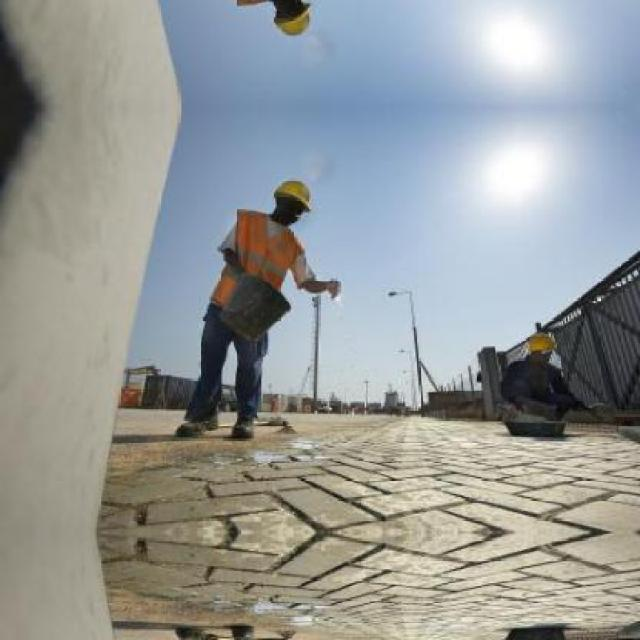Reflective-Jacket: (217, 208, 314, 310)
Safety-Helmet: (265, 170, 323, 218), (522, 328, 562, 360)
